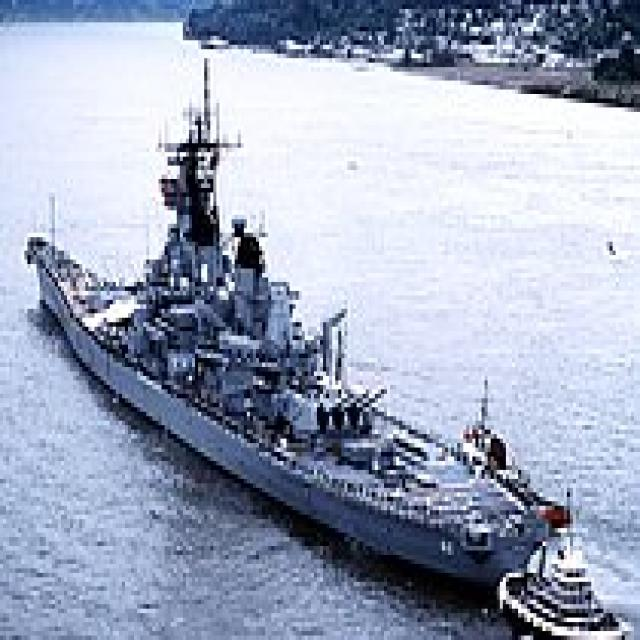Warship: (18, 49, 573, 586)
